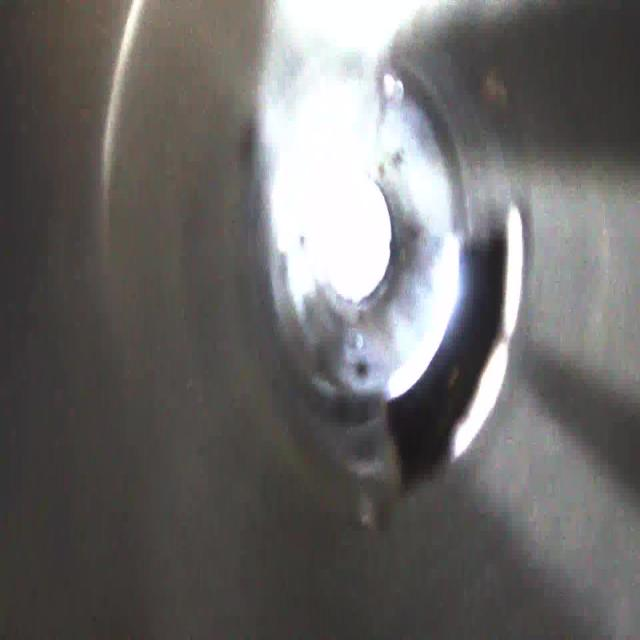hole: (381, 200, 533, 498)
